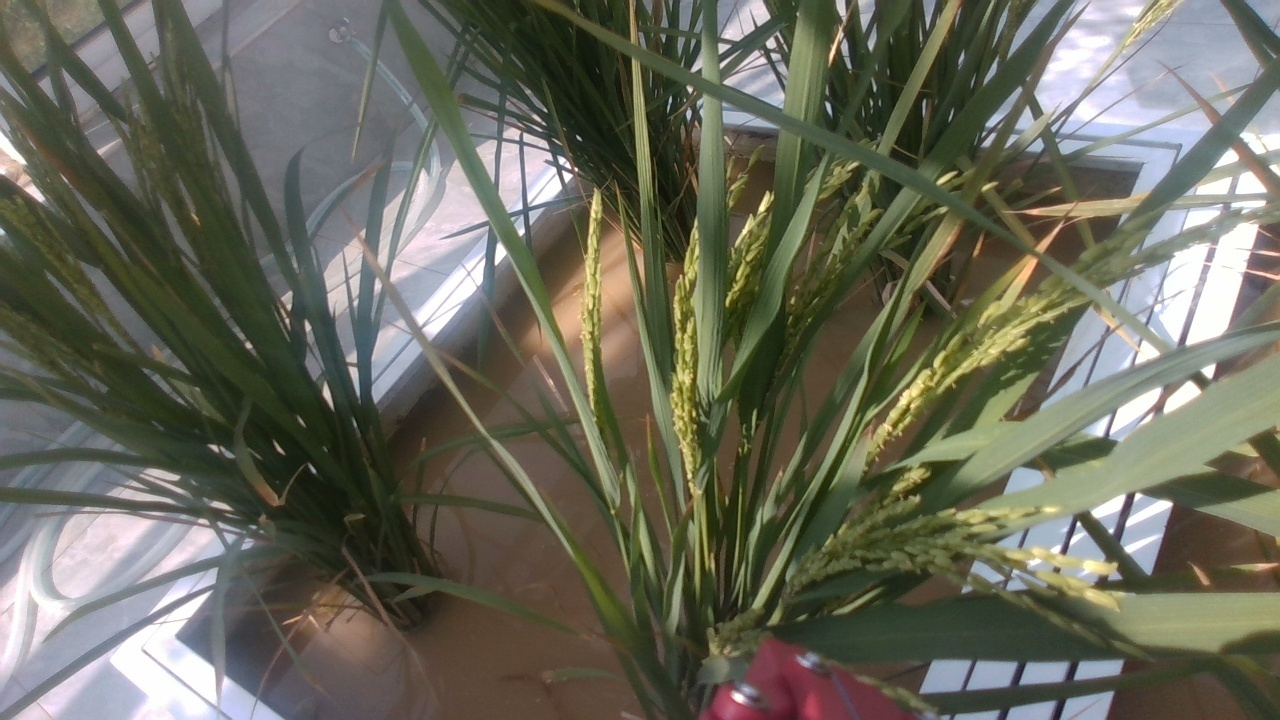panicle: (872, 203, 1224, 426), (794, 467, 1154, 603), (577, 175, 619, 406), (674, 235, 706, 439), (726, 193, 780, 290)
